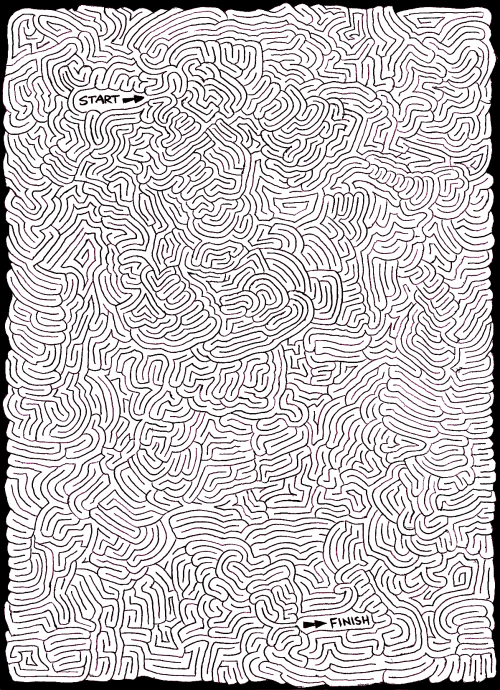maze: (6, 7, 496, 680)
